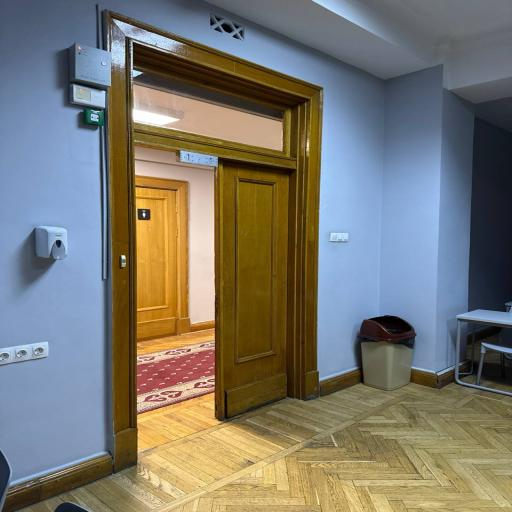corridor: (216, 162, 289, 417), (136, 188, 177, 337)
stroller: (455, 310, 511, 396)
traffic_light: (358, 316, 415, 390)
